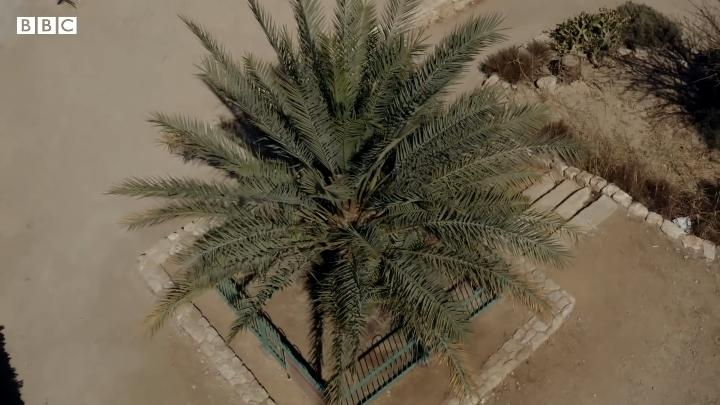Date-Palm-Crown: (268, 117, 424, 297)
